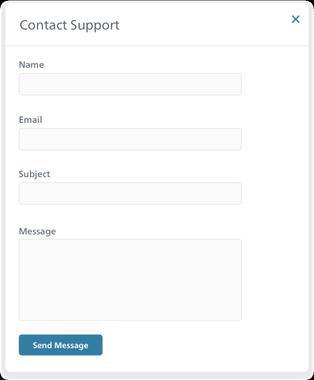_form_: (6, 1, 314, 371)
button: (18, 333, 103, 356)
field: (16, 237, 243, 321), (17, 72, 242, 96), (18, 127, 242, 151), (17, 181, 242, 204)
field_with_label: (15, 227, 245, 322), (16, 114, 244, 152), (15, 61, 243, 98), (16, 169, 244, 205)
